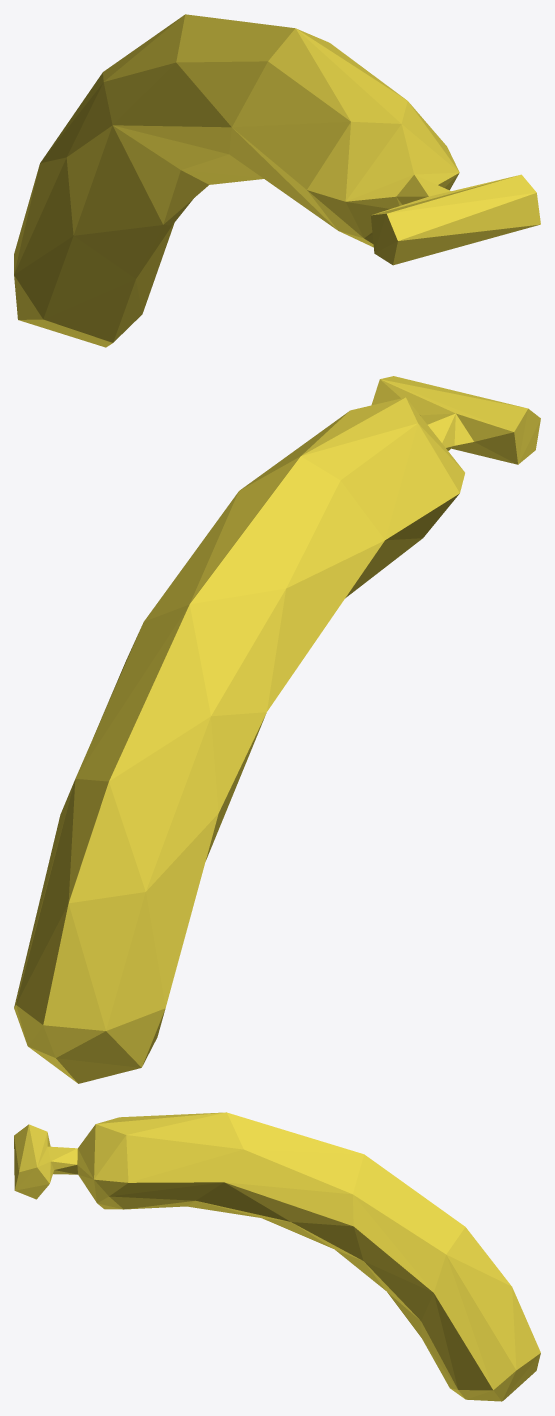
The model's file is bnn2.fbx.
The picture shows the model from 3 angles, top to bottom: view 1: azimuth 30°, elevation 25°; view 2: azimuth 150°, elevation 25°; view 3: azimuth 270°, elevation 25°; orthographic projection. The views are drawn at different scales.
Visible parts, largest first — view 1: 零件1-2; view 2: 零件1-2; view 3: 零件1-2.
Boxes of the visible parts, box(x1,y1,x2,y2) form: 零件1-2: box(14, 14, 540, 347); 零件1-2: box(14, 376, 540, 1083); 零件1-2: box(14, 1112, 540, 1401).
Size of the model in its own units: 2977 by 8849 by 14648.
